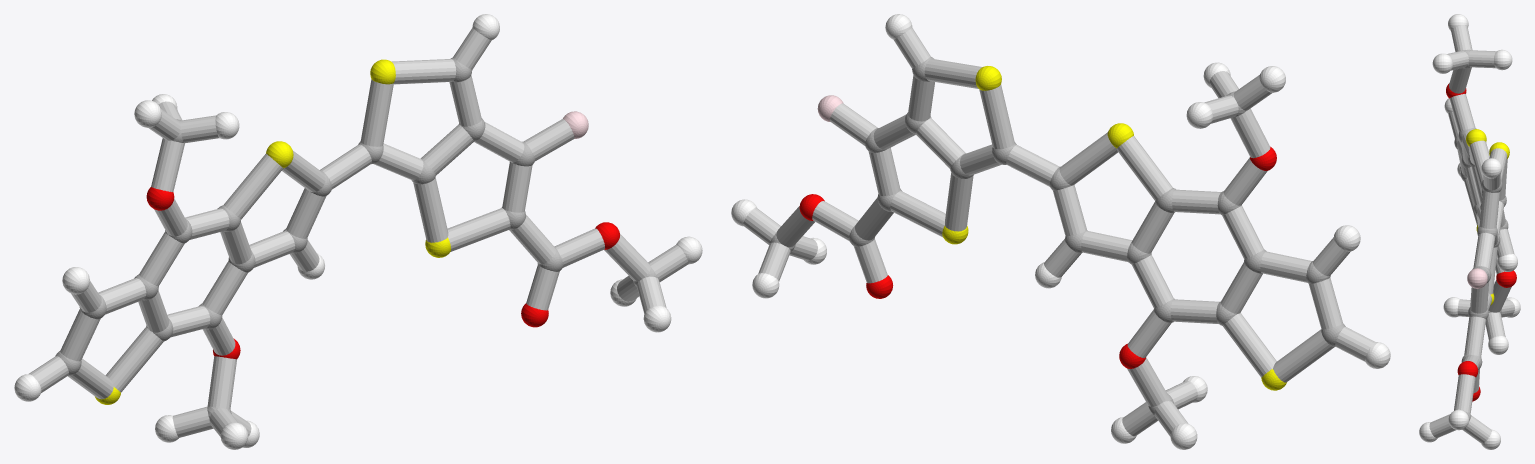
The model's file is Dimethoxy_Benzodithiophene_Phi_10_Theta_160_Methylcarbonyl_3_Fluoro_Thienothiophene.glb.
3 renders of one model, left to right at view 1: azimuth 30°, elevation 25°; view 2: azimuth 150°, elevation 25°; view 3: azimuth 270°, elevation 25°, orthographic. The views are drawn at different scales.
Visible parts, largest first — view 1: grp15205, grp8689, grp1, grp7241, grp13395; view 2: grp15205, grp8689, grp1, grp7241, grp13395; view 3: grp15205, grp8689, grp1, grp13395, grp7241, grp14843.
Boxes of the visible parts, box(x1,y1,x2,y2) form: grp15205: box(29, 28, 688, 437); grp8689: box(14, 14, 702, 449); grp1: box(55, 57, 658, 428); grp7241: box(95, 59, 451, 404); grp13395: box(146, 187, 619, 359); grp15205: box(743, 28, 1374, 436); grp8689: box(731, 14, 1390, 449); grp1: box(770, 57, 1345, 415); grp7241: box(942, 66, 1286, 390); grp13395: box(799, 146, 1276, 368); grp15205: box(1429, 25, 1514, 443); grp8689: box(1419, 14, 1520, 449); grp1: box(1454, 49, 1508, 420); grp13395: box(1446, 83, 1516, 401); grp7241: box(1466, 129, 1509, 305); grp14843: box(1467, 268, 1487, 288).
Size of the model in its own units: 16.92 by 9.43 by 2.95.
